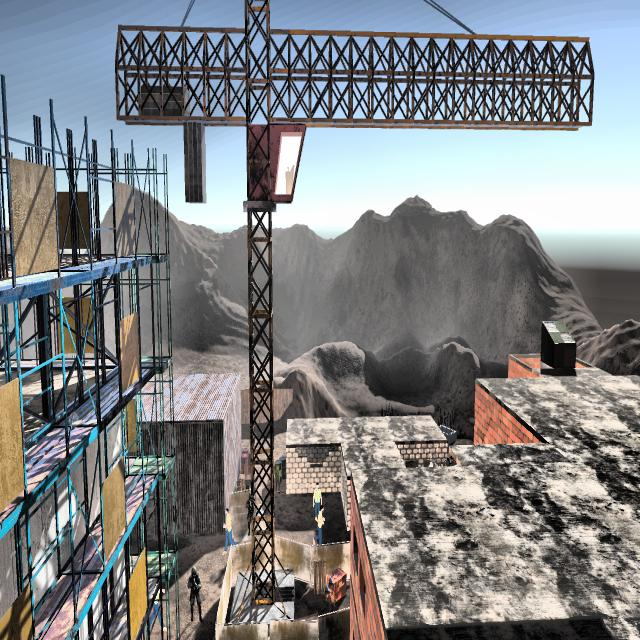bad: (186, 558, 206, 630), (243, 486, 256, 545)
good: (148, 579, 168, 640), (219, 497, 237, 557), (311, 502, 327, 544), (312, 473, 322, 513)
